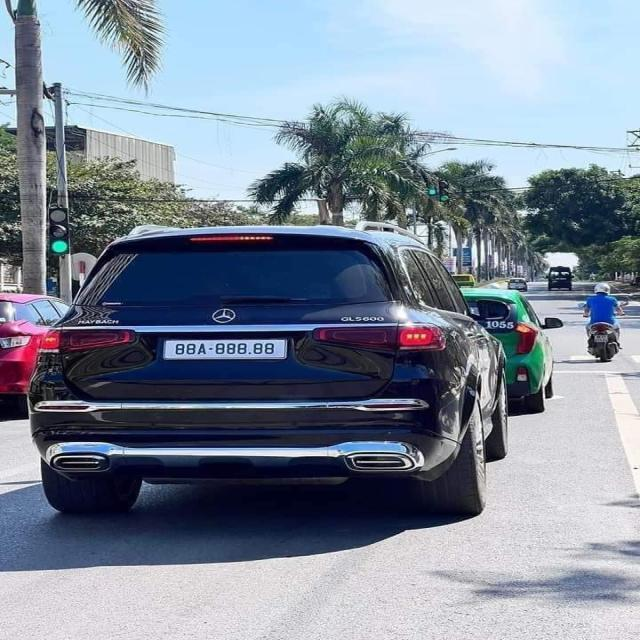car: (18, 225, 507, 510), (461, 282, 562, 416), (1, 286, 67, 419), (542, 247, 582, 289)
motorcycle: (584, 321, 622, 364)
plate: (159, 332, 287, 367)
